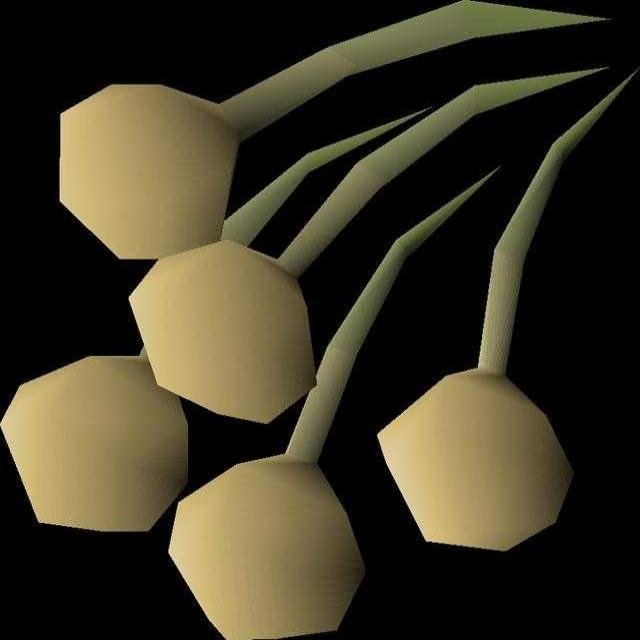onion: (1, 119, 423, 535), (128, 63, 610, 425), (167, 169, 499, 640), (54, 1, 610, 261), (379, 65, 640, 552)
